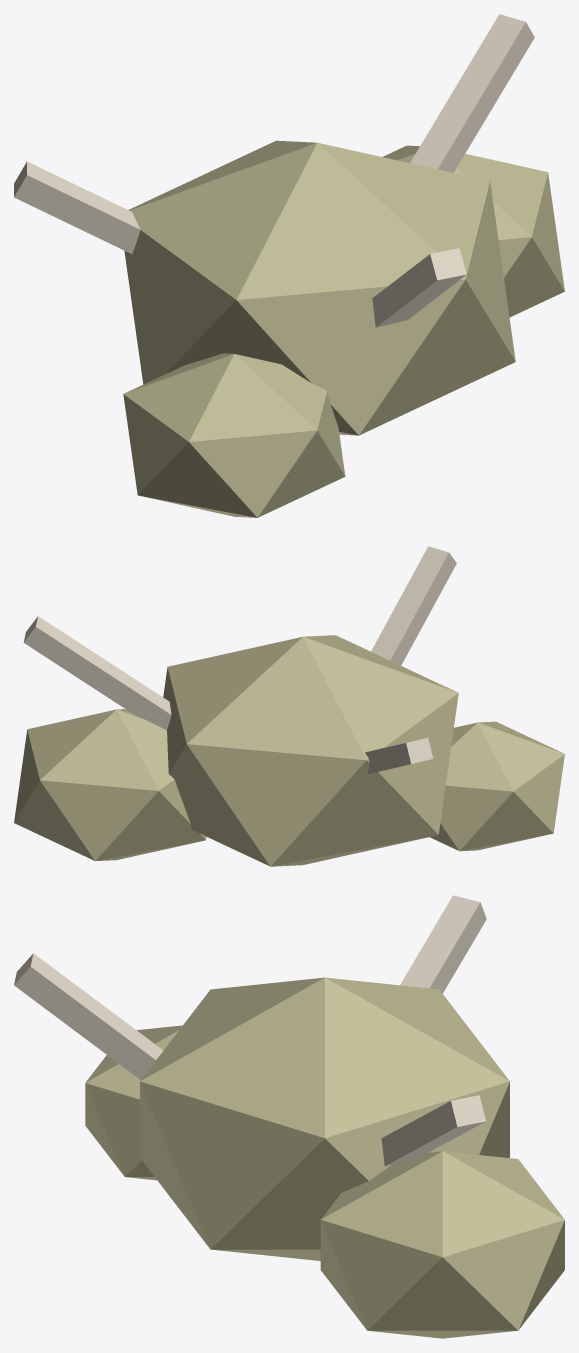
The model's file is bush_dry.glb.
3 renders of one model, top to bottom at view 1: azimuth 30°, elevation 25°; view 2: azimuth 150°, elevation 25°; view 3: azimuth 270°, elevation 25°, orthographic. The views are drawn at different scales.
Visible parts, largest first — view 1: Scrub1, Scrub3, Scrub2, Twig1, Twig2, Twig3; view 2: Scrub1, Scrub2, Scrub3, Twig1, Twig3, Twig2; view 3: Scrub1, Scrub2, Twig3, Scrub3, Twig2, Twig1.
Part boxes in pixels (x1,y1,x2,y2): Scrub1: (124, 140, 515, 435); Scrub3: (123, 353, 345, 517); Scrub2: (383, 145, 564, 317); Twig1: (410, 14, 534, 172); Twig2: (14, 161, 140, 253); Twig3: (372, 248, 466, 327); Scrub1: (163, 635, 458, 866); Scrub2: (14, 709, 206, 861); Scrub3: (429, 721, 564, 851); Twig1: (23, 616, 171, 730); Twig3: (371, 546, 456, 665); Twig2: (365, 737, 433, 773); Scrub1: (140, 977, 509, 1260); Scrub2: (320, 1151, 564, 1338); Twig3: (14, 953, 163, 1079); Scrub3: (85, 1025, 182, 1180); Twig2: (400, 895, 486, 993); Twig1: (381, 1095, 485, 1166).
Size of the model in its own units: 0.5711 by 0.3008 by 0.5165.
